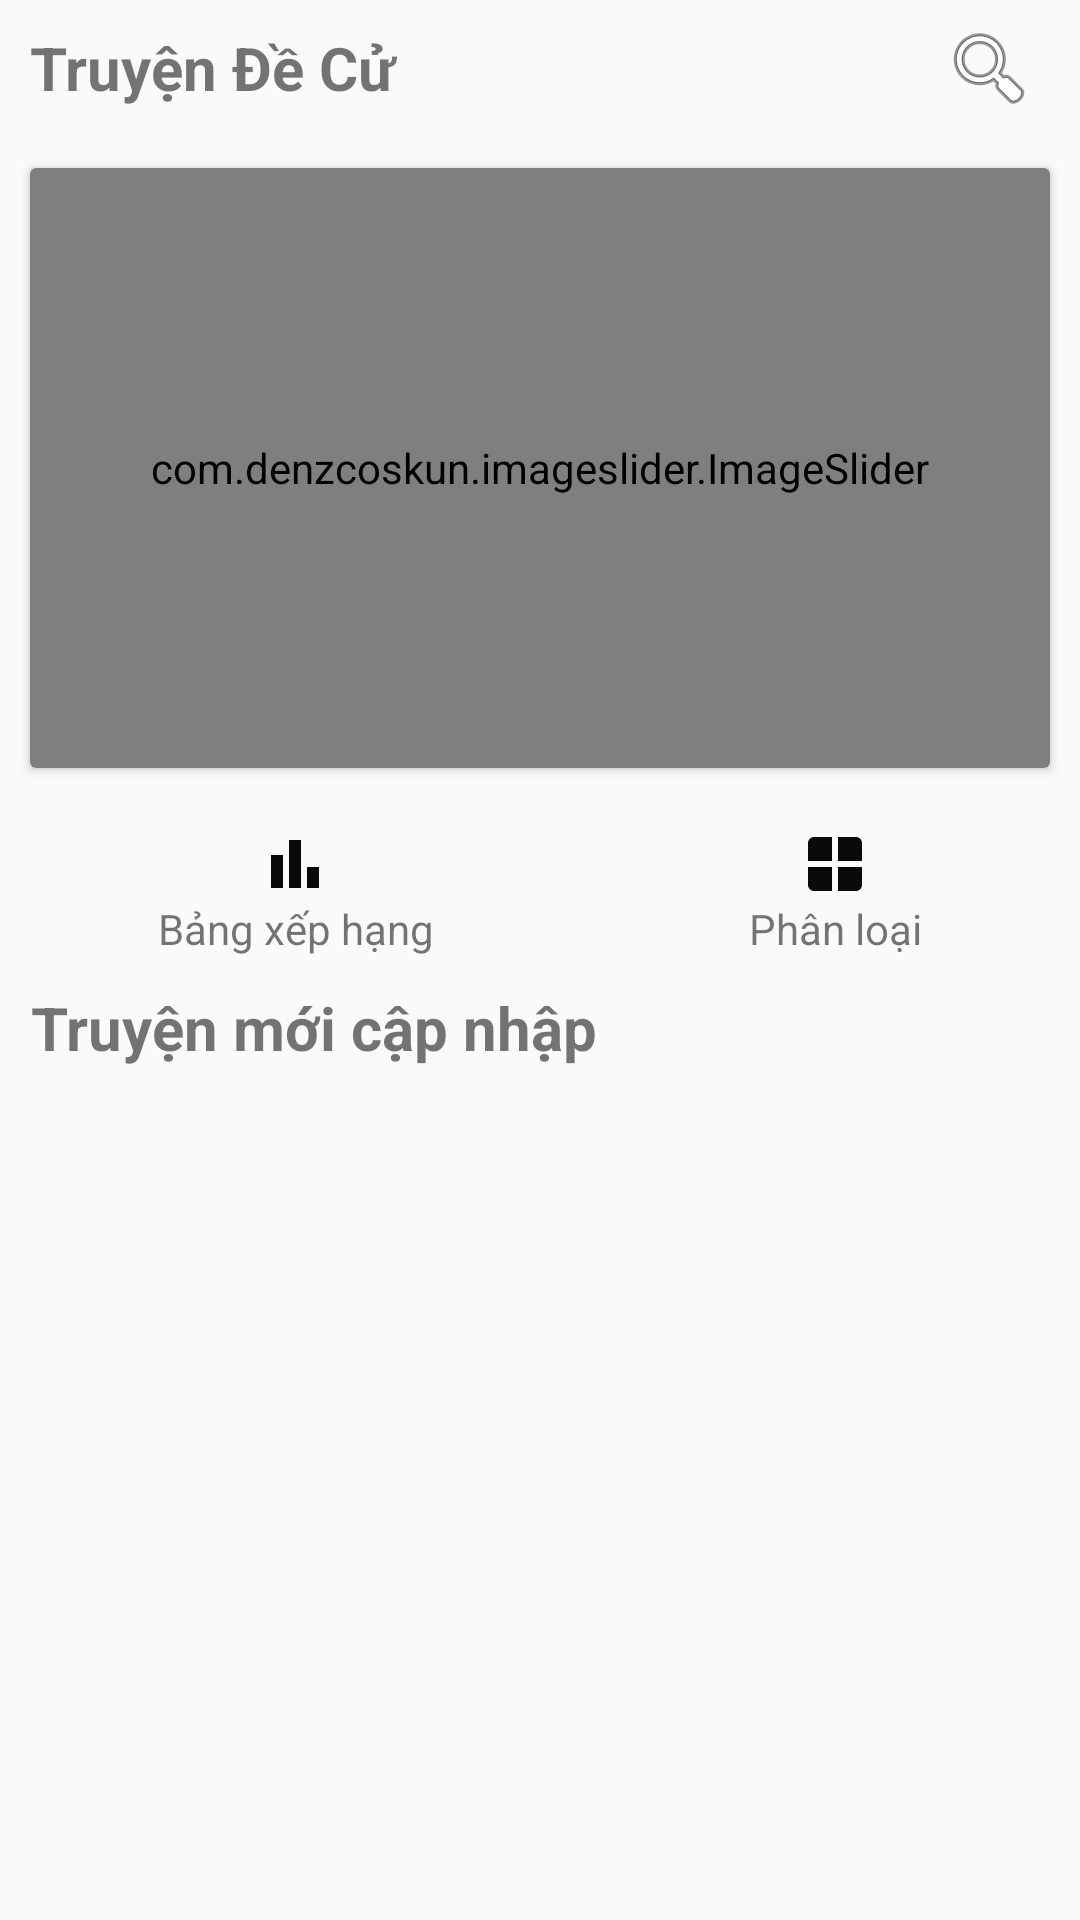

Icon bounding boxes for this 1080px×1920px phone screenshot, format (x1, y1, x2, y2):
Search: (953, 33, 1025, 104)
